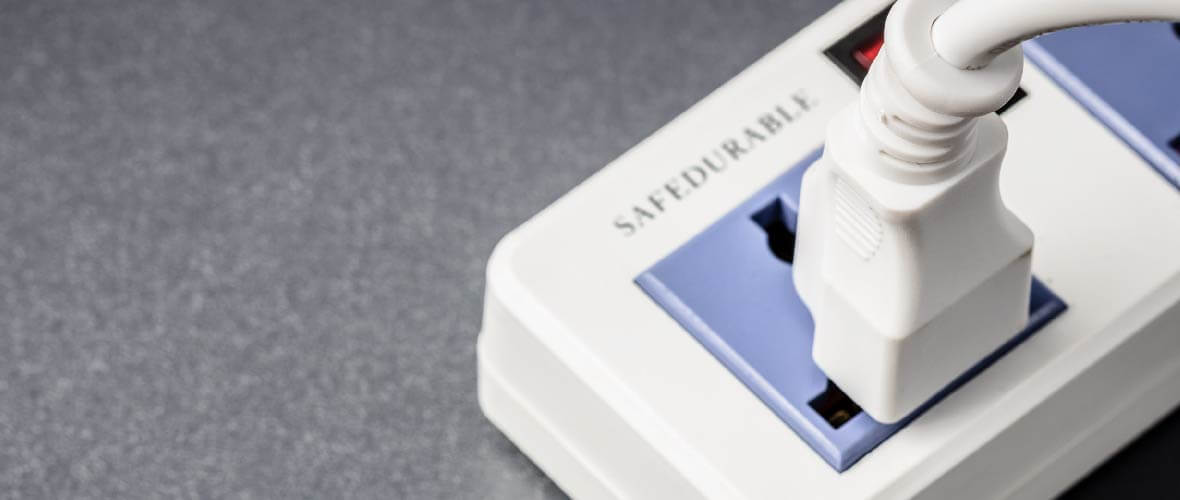Three_eye_plug: (463, 1, 1180, 500)
